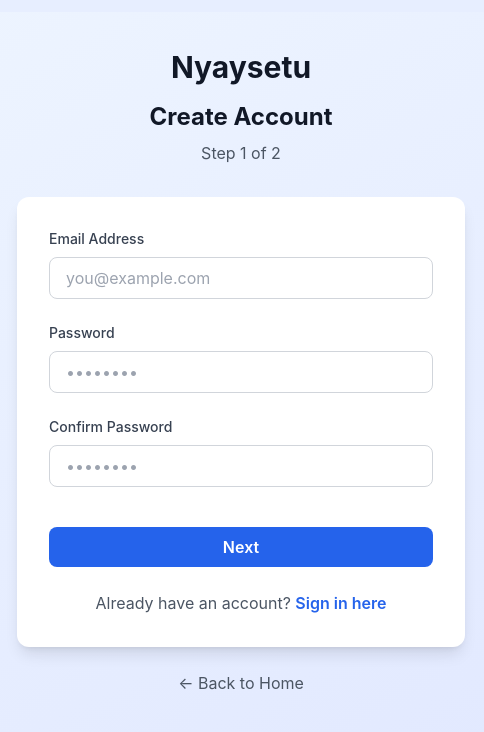
Test case: RegisterPage › should display validation errors for empty fields on step 1
The width and height of the screenshot is (484, 732).
Click the button "Next": (241, 547) [49,527,433,567]
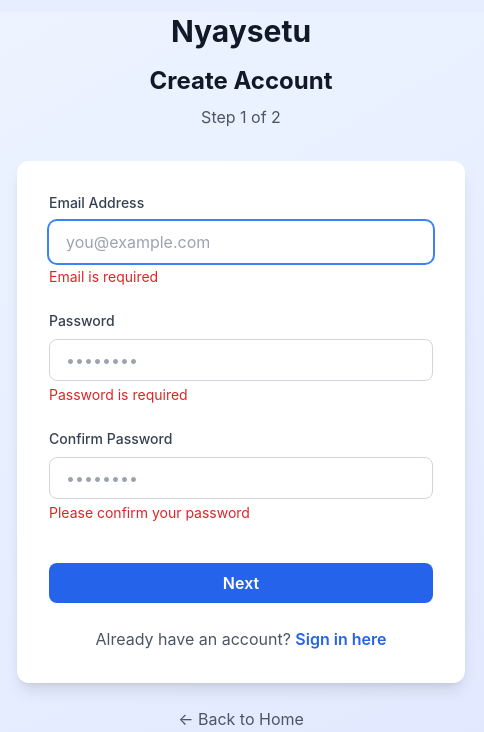
Now the text "Email is required" is shown, box [49,268,158,285]
Now the text "Password is required" is shown, box [49,386,188,403]
